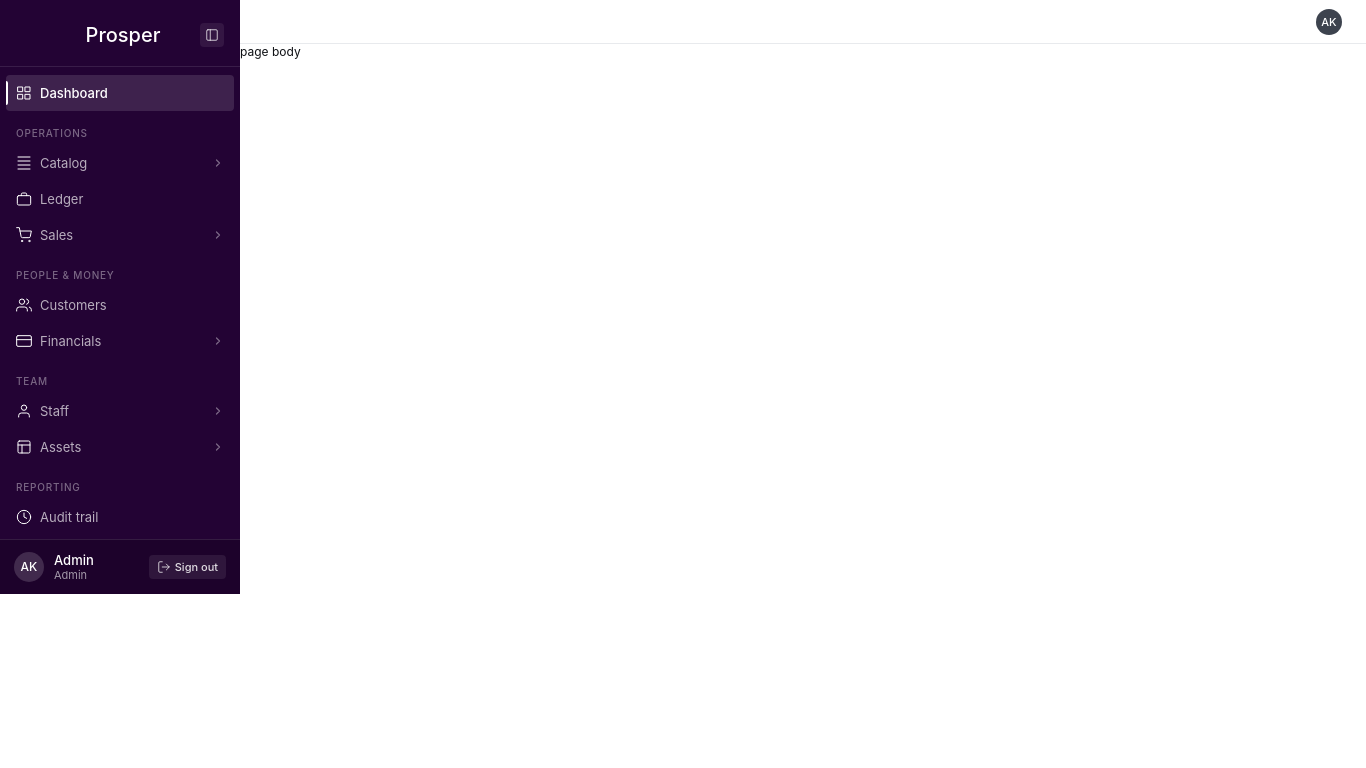
Test: admin desktop sidebar — accordion › only one section is open at a time
Click the button named "Expand Financials".
click(218, 341)  # box 202,323 -> 234,359
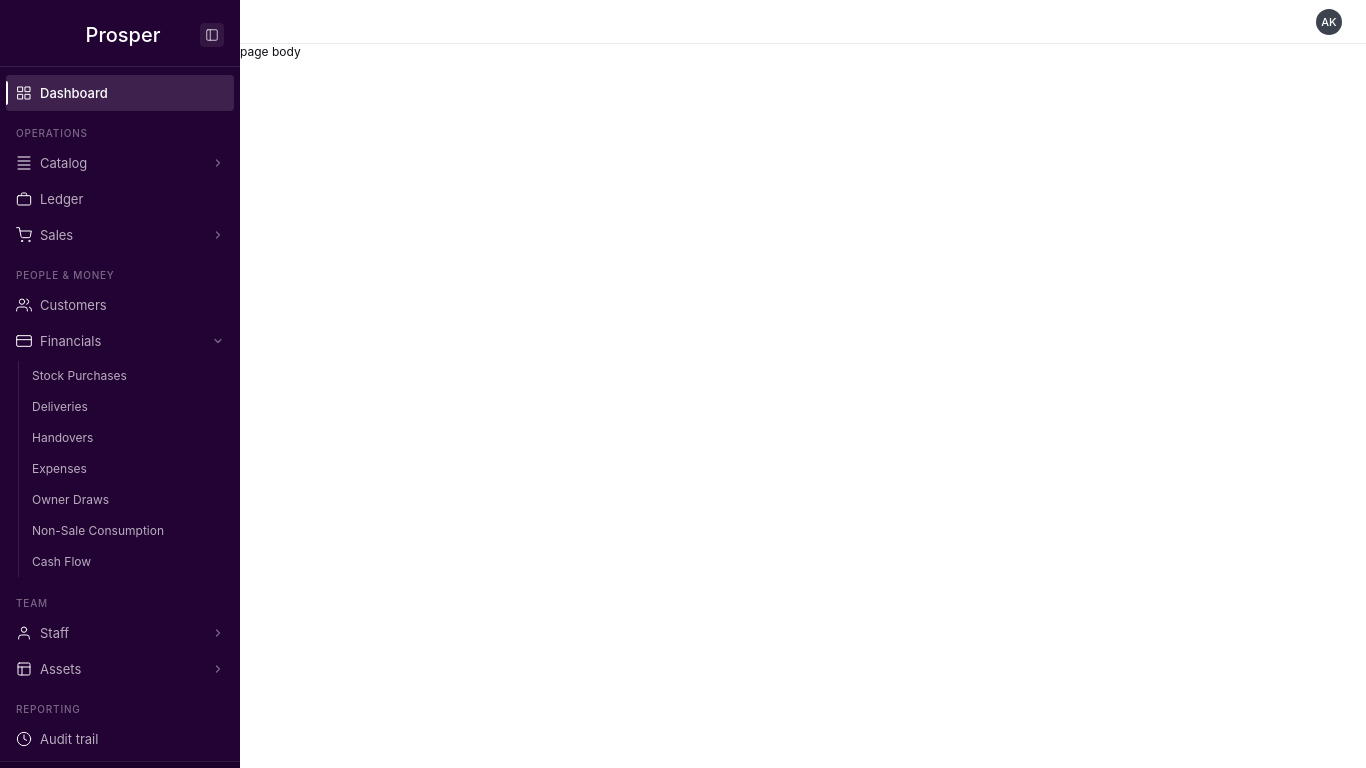
Expected: the button "Handovers" is shown, 22,423 -> 228,453
Click the button named "Expand Staff".
click(218, 633)  # box 202,615 -> 234,651
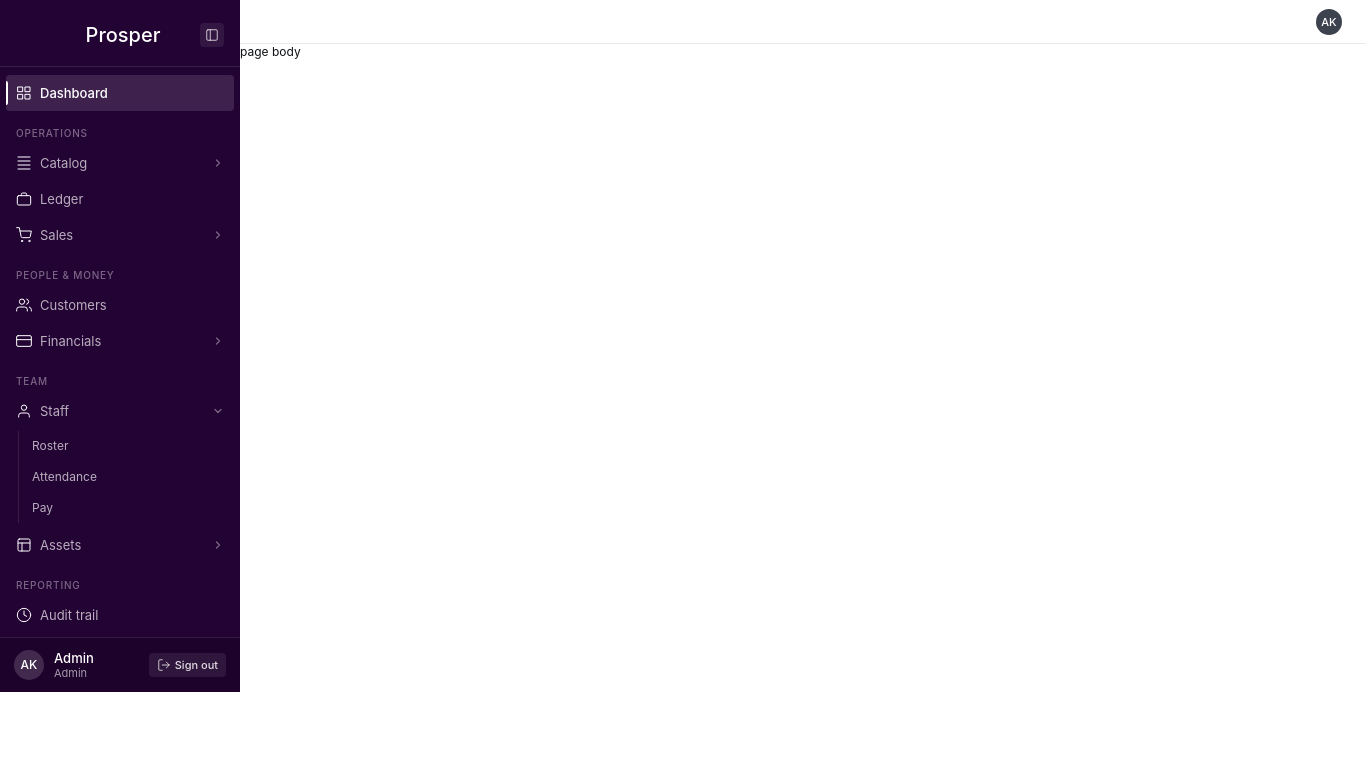
Expected: the button "Handovers" is gone
Expected: the button "Attendance" is shown, 22,462 -> 228,492
